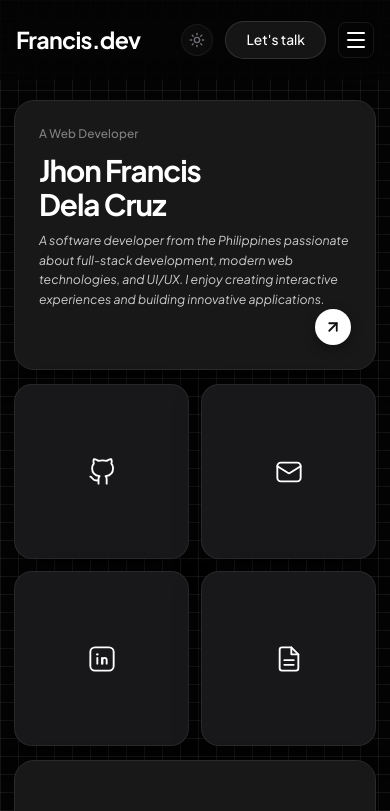
it: portfolio routes › preserves the original mobile menu toggle interaction
Click the button named "Open menu" at (356, 40), box [338,22,374,58]
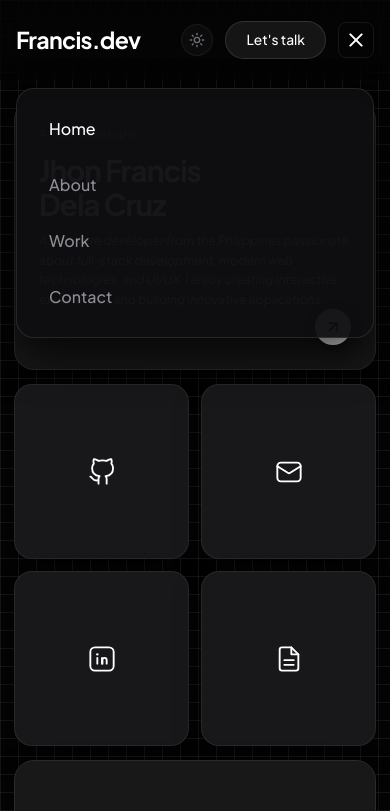
Check: the button named "Open menu" is expanded, box [338,22,374,58]
